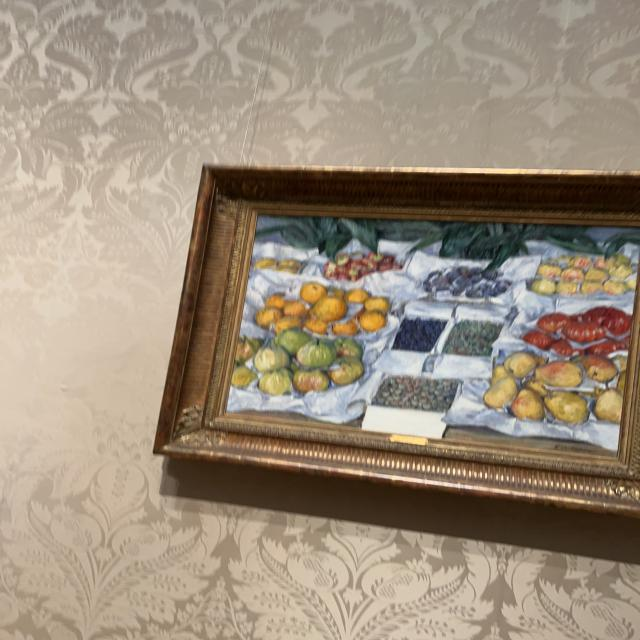fruits: (230, 217, 637, 452)
